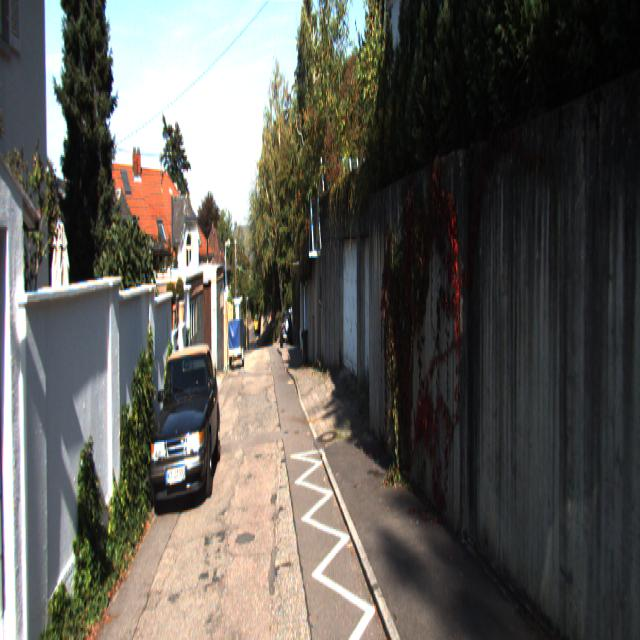Car: (146, 337, 222, 523), (228, 317, 244, 372), (280, 312, 294, 348)
